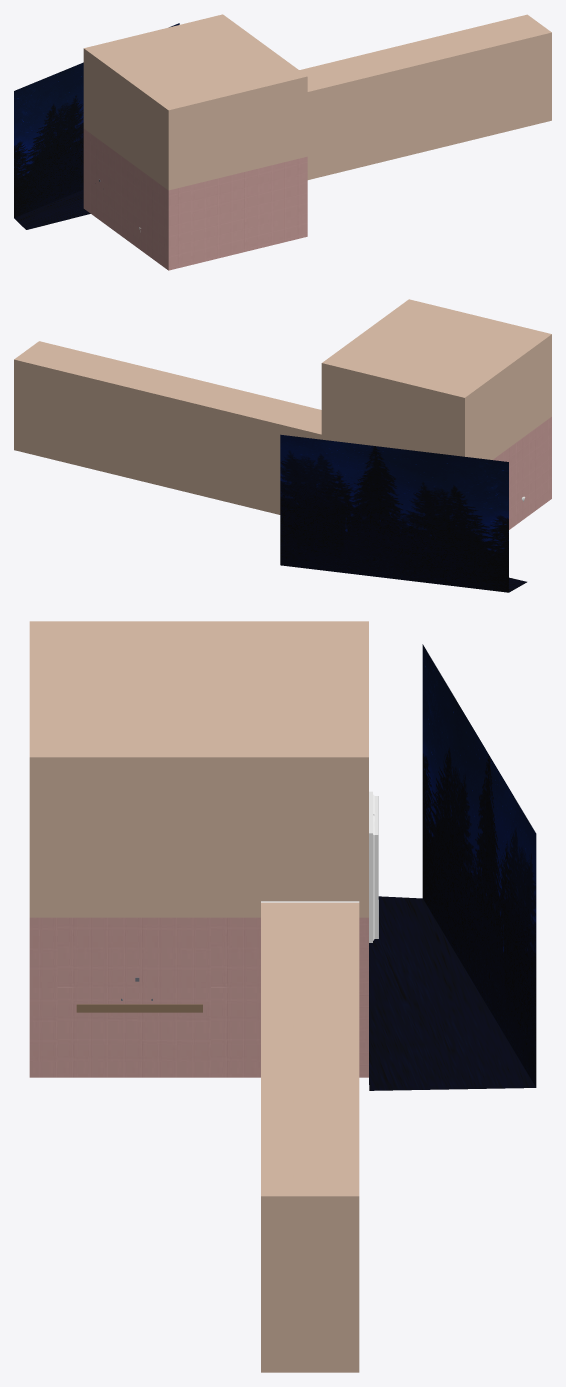
File: banoterminado.glb
3 renders of one model, top to bottom at view 1: azimuth 30°, elevation 25°; view 2: azimuth 150°, elevation 25°; view 3: azimuth 270°, elevation 25°, orthographic. The views are drawn at different scales.
Parts seen in each view (by area): view 1: habitacion, passillo/ puerta, fondo ventana; view 2: habitacion, passillo/ puerta, fondo ventana; view 3: habitacion, fondo ventana, passillo/ puerta, huecoventana, bacha.
Boxes of the visible parts, x1,y1,x2,y2 form: habitacion: [83, 14, 307, 270]; passillo/ puerta: [299, 14, 551, 179]; fondo ventana: [14, 23, 179, 229]; habitacion: [321, 299, 551, 529]; passillo/ puerta: [14, 341, 321, 514]; fondo ventana: [280, 434, 526, 592]; habitacion: [29, 621, 368, 1077]; fondo ventana: [369, 644, 536, 1090]; passillo/ puerta: [261, 901, 359, 1372]; huecoventana: [369, 791, 378, 942]; bacha: [76, 977, 202, 1012].
Size of the model in its own units: 43.89 by 13.91 by 19.23.
Materials: 11 (5 with a texture image).
